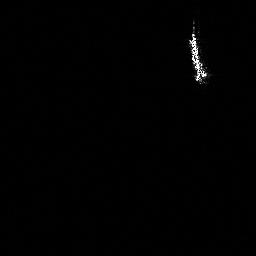ship: (184, 28, 211, 86)
